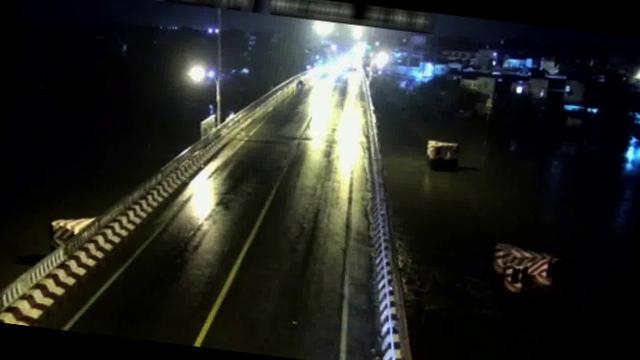Bike: (293, 75, 308, 95)
